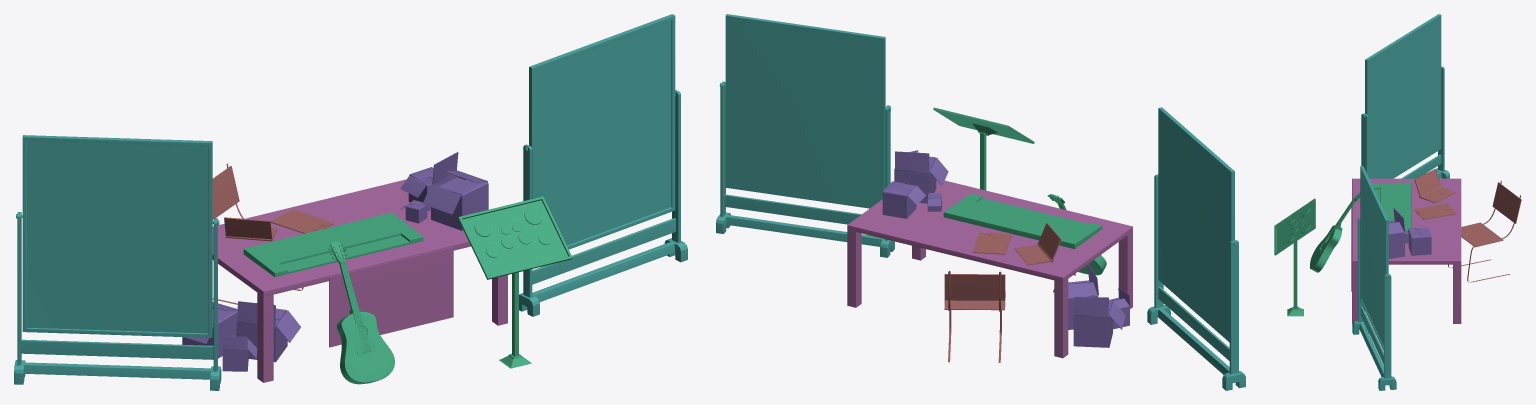
The model's file is Music_Stall.fbx.
The picture shows the model from 3 angles, left to right: view 1: azimuth 30°, elevation 25°; view 2: azimuth 150°, elevation 25°; view 3: azimuth 270°, elevation 25°; orthographic projection. The views are drawn at different scales.
Visible parts, largest first — view 1: Mirror_Mirror, Mirror_Mirror1, pCube1, Name_Board, Mirror_Stand, Mirror_Stand1, Keybvoard, pCube19, Box_Ajar3, Guitar_body, Box_Ajar2, pCube2 (+8 smaller); view 2: Mirror_Mirror1, Mirror_Mirror, pCube1, Mirror_Stand1, Mirror_Stand, Keybvoard, Box_Ajar, Box_Ajar3, pCube12, Box_Closed, pCube4, pCube5 (+4 smaller); view 3: Mirror_Mirror, pCube1, Mirror_Mirror1, Mirror_Stand1, Mirror_Stand, Keybvoard, pCube19, Box_Ajar3, pCube12, Guitar_body, pCube14, Box_Closed (+5 smaller).
Part boxes in pixels (<box>): Mirror_Mirror: <box>22,135,212,337</box>; Mirror_Mirror1: <box>529,14,675,249</box>; pCube1: <box>212,179,470,296</box>; Name_Board: <box>329,247,453,347</box>; Mirror_Stand: <box>14,212,221,390</box>; Mirror_Stand1: <box>519,90,687,316</box>; Keybvoard: <box>243,212,423,276</box>; pCube19: <box>458,196,572,279</box>; Box_Ajar3: <box>422,152,488,230</box>; Guitar_body: <box>337,310,394,384</box>; Box_Ajar2: <box>236,301,300,362</box>; pCube2: <box>257,293,273,382</box>; Mirror_Mirror1: <box>725,14,885,208</box>; Mirror_Mirror: <box>1158,107,1234,342</box>; pCube1: <box>847,180,1132,282</box>; Mirror_Stand1: <box>716,81,894,257</box>; Mirror_Stand: <box>1147,174,1245,390</box>; Keybvoard: <box>943,193,1102,248</box>; Box_Ajar: <box>1073,294,1125,347</box>; Box_Ajar3: <box>894,150,948,203</box>; pCube12: <box>944,274,1005,300</box>; Box_Closed: <box>882,181,925,218</box>; pCube4: <box>847,226,861,307</box>; pCube5: <box>1054,279,1068,358</box>; Mirror_Mirror: <box>1365,14,1441,178</box>; pCube1: <box>1352,178,1461,264</box>; Mirror_Mirror1: <box>1360,166,1388,350</box>; Mirror_Stand1: <box>1352,218,1396,390</box>; Mirror_Stand: <box>1361,66,1449,178</box>; Keybvoard: <box>1371,182,1411,231</box>; pCube19: <box>1274,198,1315,255</box>; Box_Ajar3: <box>1388,207,1404,258</box>; pCube12: <box>1492,182,1521,223</box>; Guitar_body: <box>1310,223,1342,272</box>; pCube14: <box>1461,222,1503,247</box>; Box_Closed: <box>1407,227,1431,255</box>.
Size of the model in its own units: 578 by 214 by 284.
